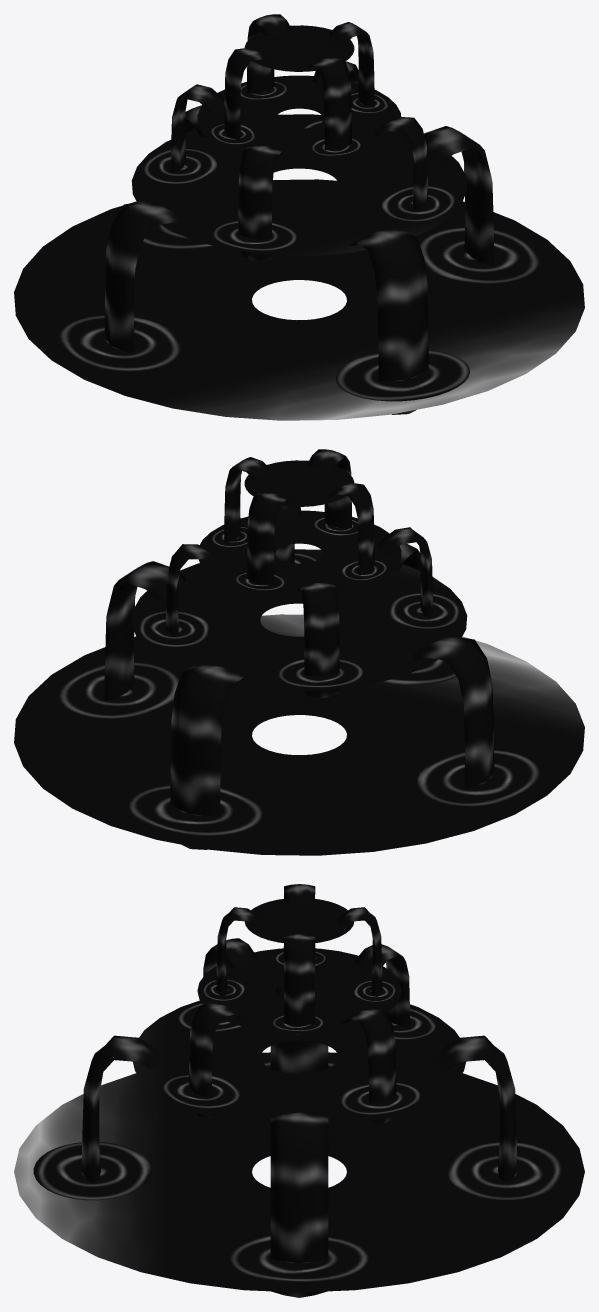
The model's file is FountainWater.fbx.
The picture shows the model from 3 angles, top to bottom: view 1: azimuth 30°, elevation 25°; view 2: azimuth 150°, elevation 25°; view 3: azimuth 270°, elevation 25°; orthographic projection.
Parts seen in each view (by area): view 1: poolcircle.001, poolcircle.002; view 2: poolcircle.001, poolcircle.002; view 3: poolcircle.001, poolcircle.002.
Boxes of the visible parts, <box> form: poolcircle.001: <box>14,14,584,420</box>; poolcircle.002: <box>58,81,540,401</box>; poolcircle.001: <box>14,449,584,855</box>; poolcircle.002: <box>58,517,540,836</box>; poolcircle.001: <box>14,884,584,1297</box>; poolcircle.002: <box>33,951,565,1283</box>.
Bounding box in the file's own units: 4.86 × 2.76 × 4.86.
2 materials, 2 textured.
